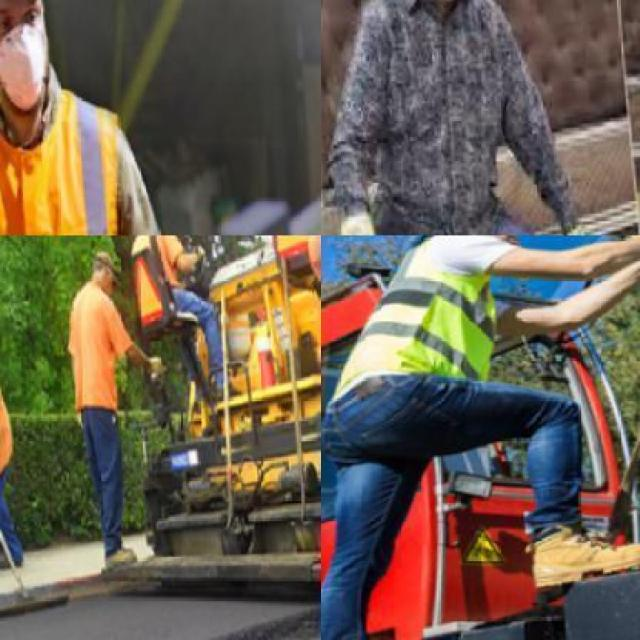vest: (320, 235, 506, 397), (0, 84, 152, 233), (66, 280, 120, 420), (128, 236, 186, 316), (0, 364, 15, 492)
